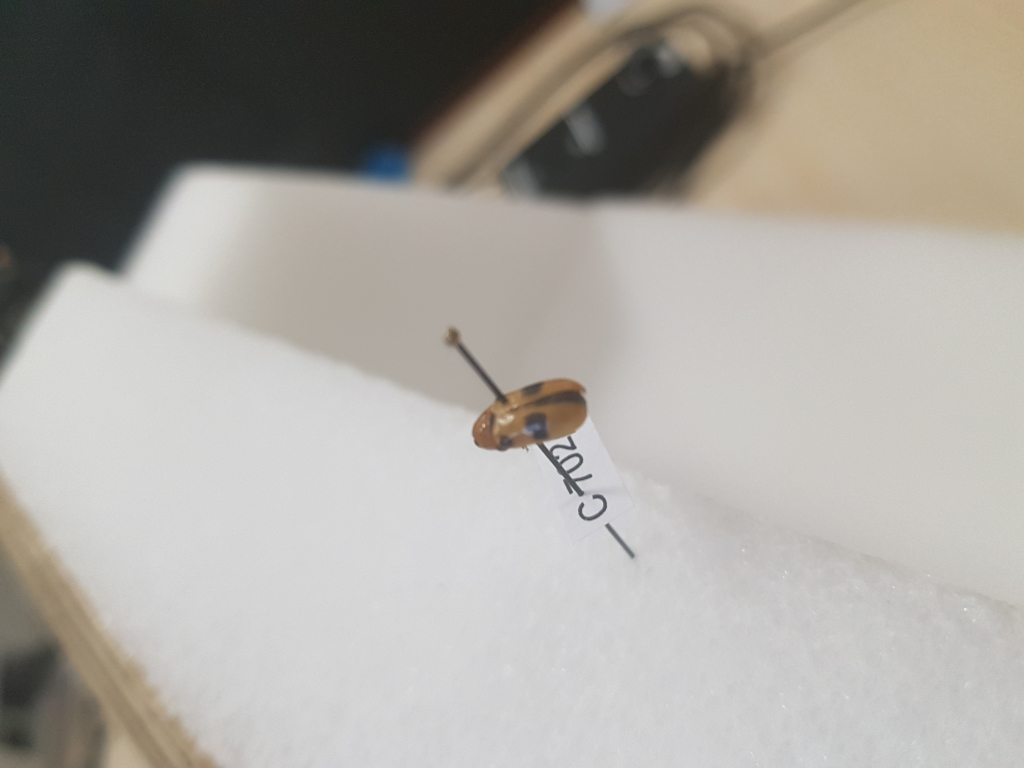Tituboea_macropus: (468, 371, 590, 454)
